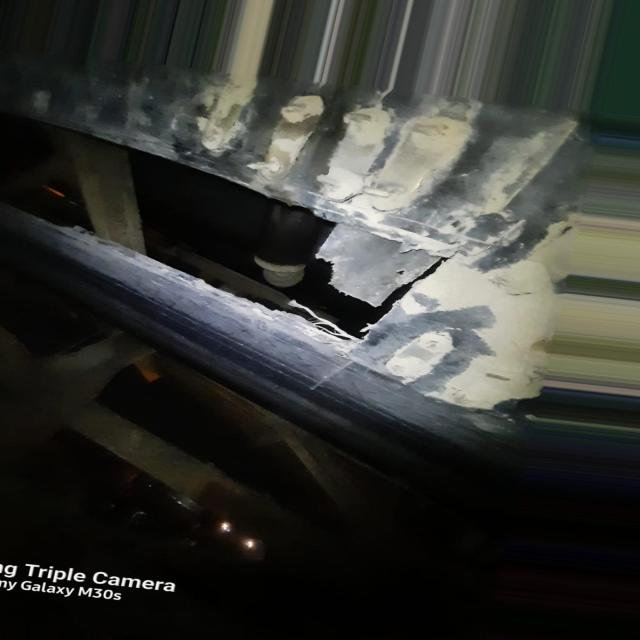Hole: (8, 112, 461, 341)
